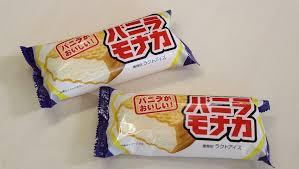plastic: (16, 7, 201, 111), (93, 82, 278, 169)
